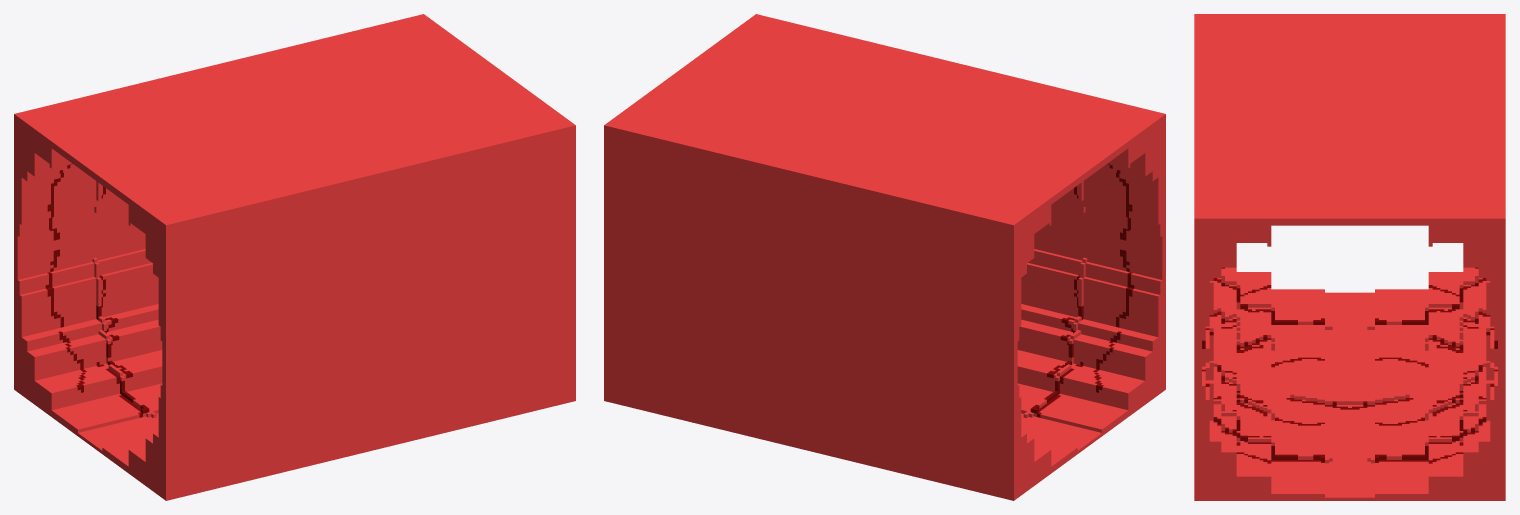
Rendered from background01.obj.
3 views of the same model, side by side, from view 1: azimuth 30°, elevation 25°; view 2: azimuth 150°, elevation 25°; view 3: azimuth 270°, elevation 25° (orthographic). The views are drawn at different scales.
Bounding box in the file's own units: 126 × 81 × 81.
Materials: 1 (1 with a texture image).
